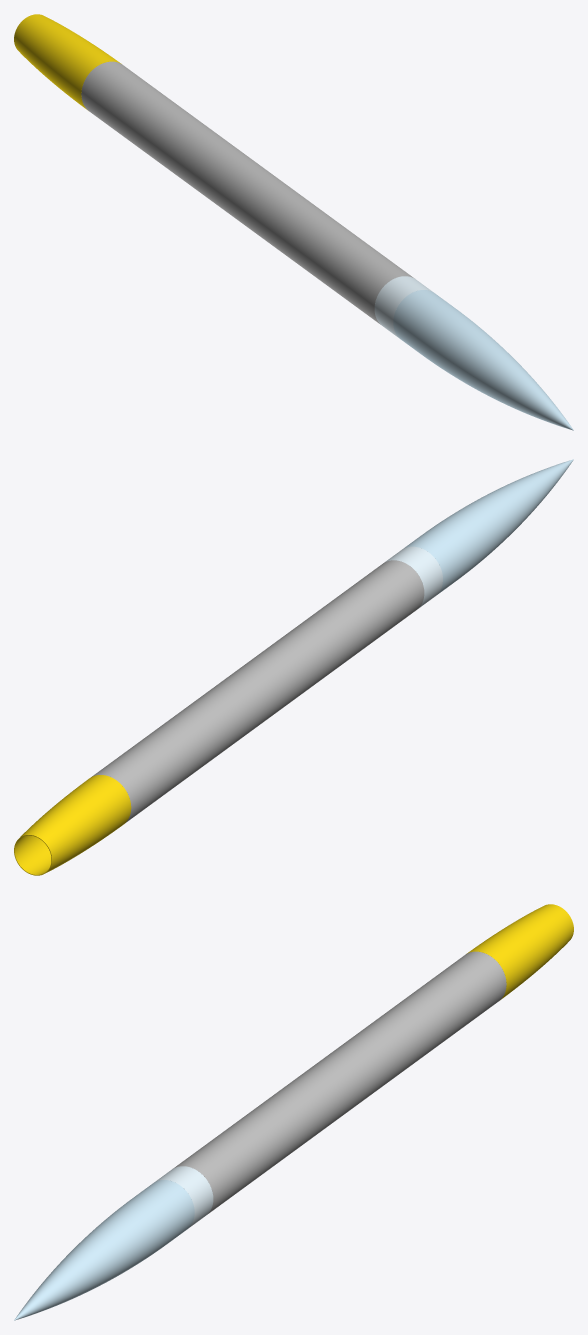
Rendered from rocket.gltf.
The picture shows the model from 3 angles, top to bottom: view 1: azimuth 30°, elevation 25°; view 2: azimuth 150°, elevation 25°; view 3: azimuth 330°, elevation 25°; orthographic projection.
Visible parts, largest first — view 1: BodyTube, NoseCone, BoatTail, SwitchBand; view 2: BodyTube, NoseCone, BoatTail, SwitchBand; view 3: BodyTube, NoseCone, BoatTail, SwitchBand.
Part boxes in pixels (x1,y1,x2,y2): BodyTube: (81,61,414,324); NoseCone: (393,290,573,430); BoatTail: (14,14,121,109); SwitchBand: (374,276,433,338); BodyTube: (92,560,424,822); NoseCone: (403,459,573,595); BoatTail: (14,775,131,875); SwitchBand: (385,546,442,608); BodyTube: (173,951,506,1214); NoseCone: (14,1180,194,1320); BoatTail: (466,904,573,999); SwitchBand: (154,1166,213,1228).
Size of the model in its own units: 0.157 by 0.1569 by 2.95.
